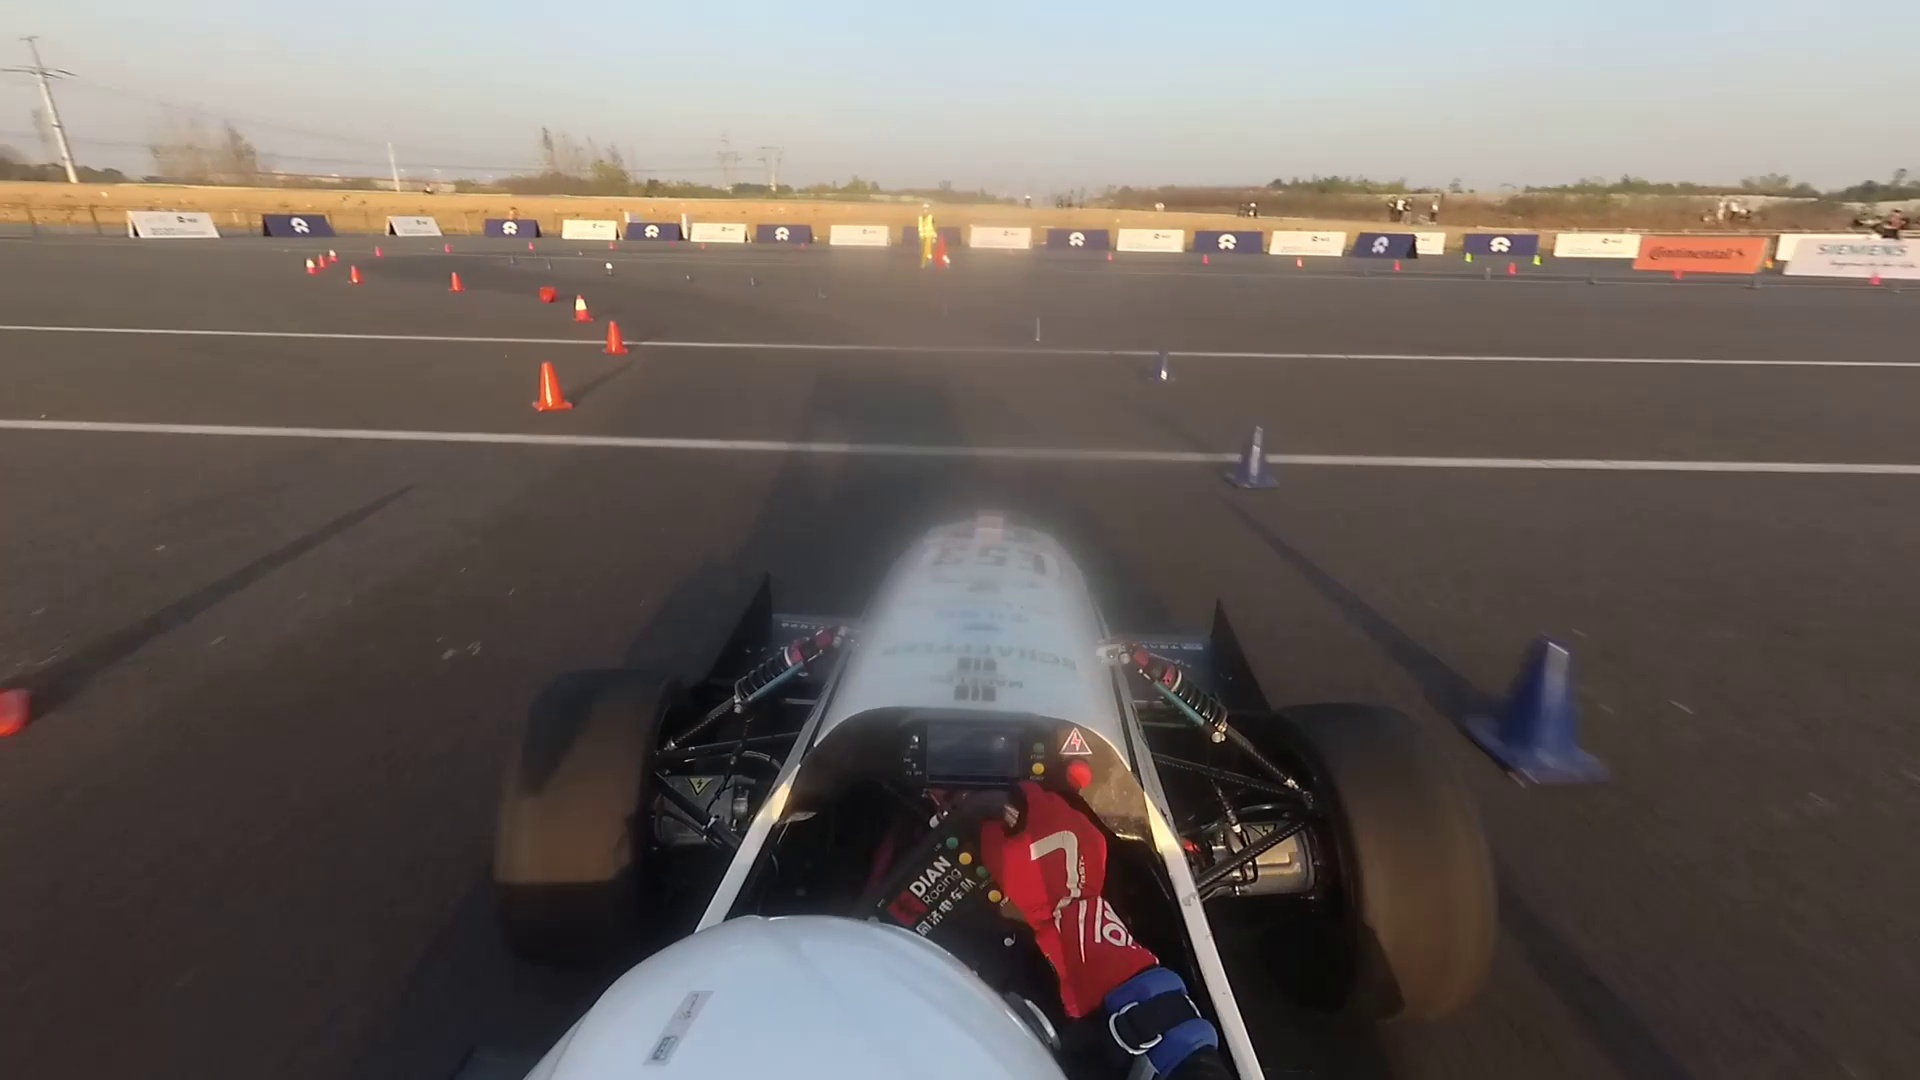blue_cone: (1451, 625, 1615, 791), (1228, 425, 1279, 487), (1145, 349, 1187, 386), (1017, 314, 1055, 349)
red_cone: (521, 365, 579, 414), (600, 320, 626, 359), (567, 295, 593, 323), (534, 284, 556, 311), (347, 264, 367, 290), (448, 272, 467, 294), (1290, 255, 1311, 272), (1867, 268, 1880, 291), (299, 258, 320, 273), (1669, 262, 1683, 284), (326, 247, 339, 264), (371, 244, 385, 258), (1505, 260, 1520, 273), (526, 239, 537, 257), (1104, 251, 1116, 265), (443, 241, 454, 257), (1393, 258, 1402, 276), (1200, 256, 1215, 266)
